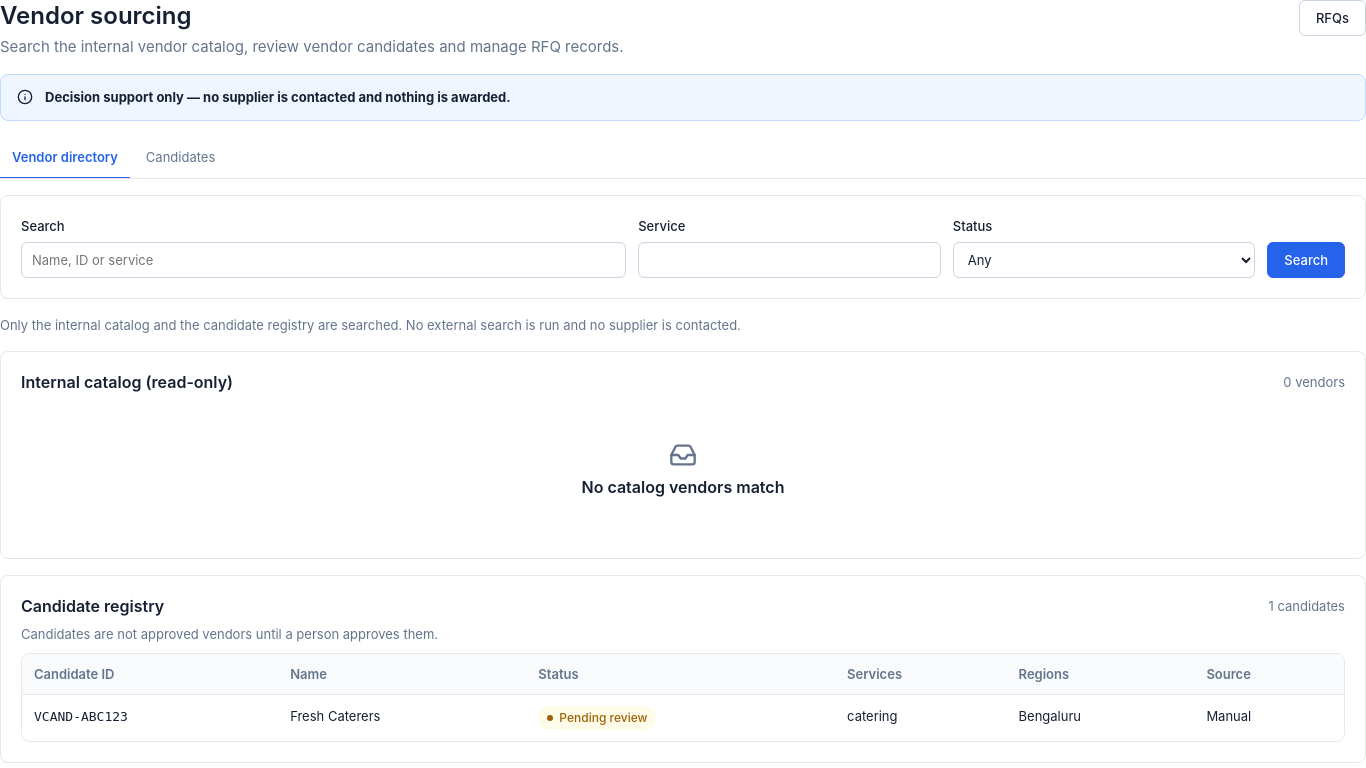
Test: VendorSourcingPage — allowed_decisions › falls back to the local transition table when the field is absent
The width and height of the screenshot is (1366, 768).
Click the tab "Candidates".
click(181, 158)  # box x1=134 y1=137 x2=227 y2=179
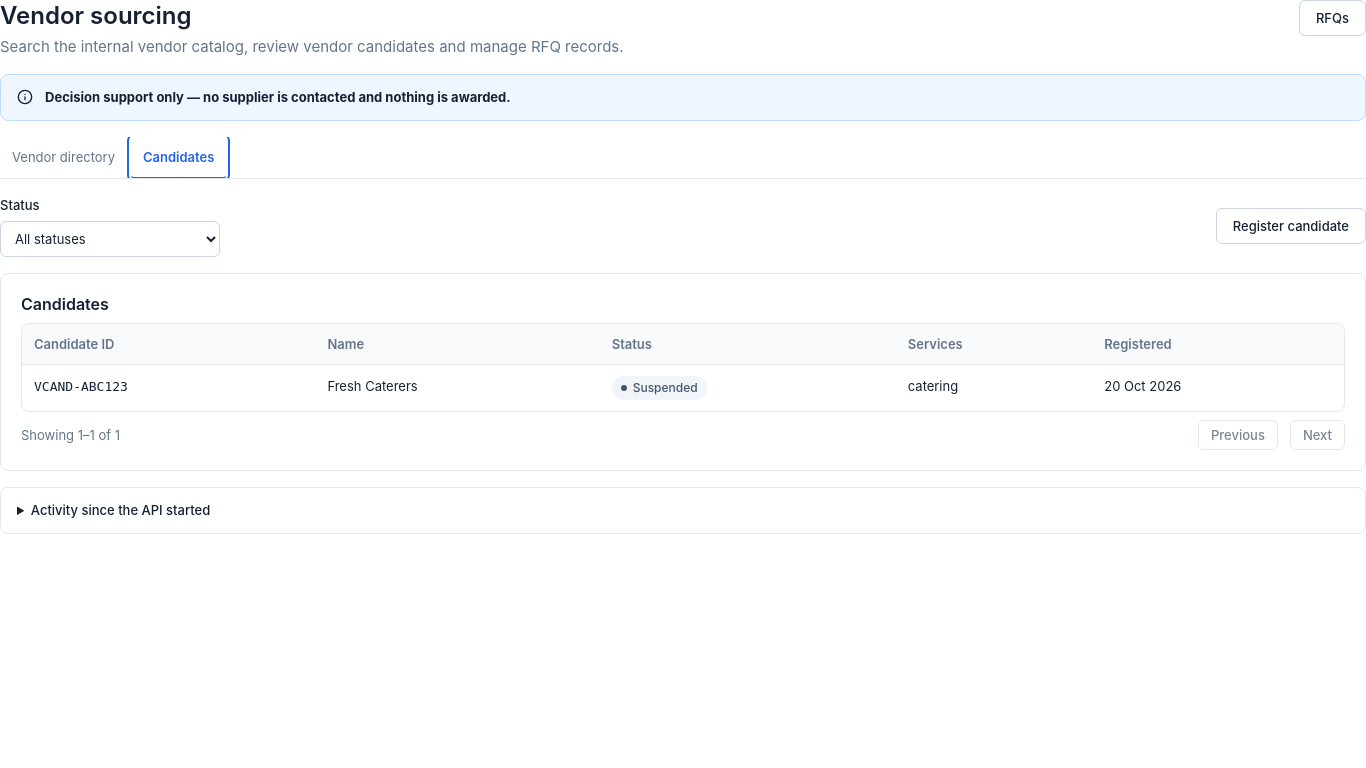
Click the text "Fresh Caterers".
click(373, 386)  # box x1=315 y1=365 x2=600 y2=411
(page scrolled)
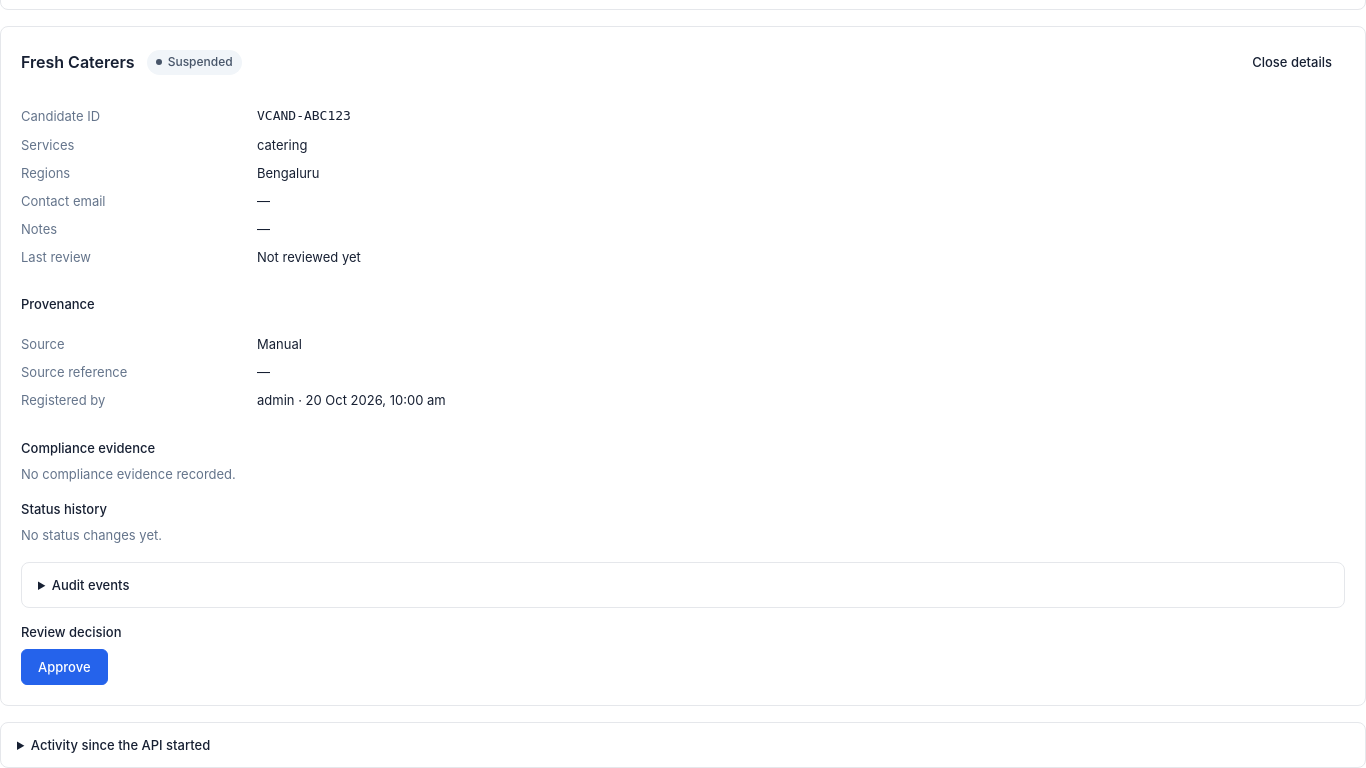
Now the button "Approve" is shown, box x1=21 y1=649 x2=108 y2=685
